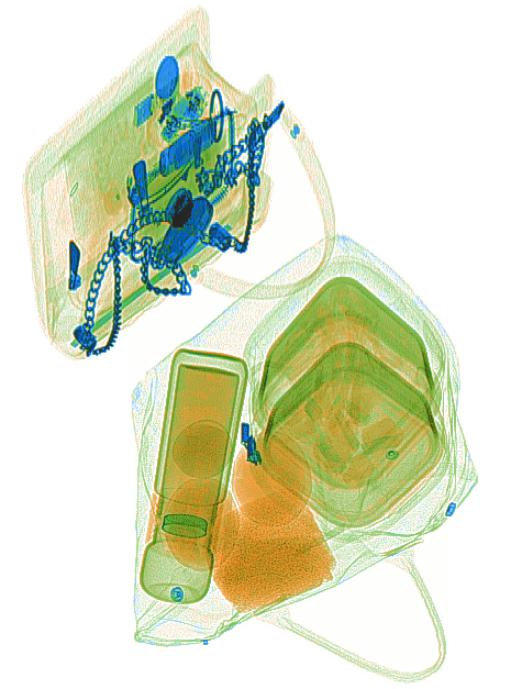USBFlashDisk: (131, 65, 197, 126)
